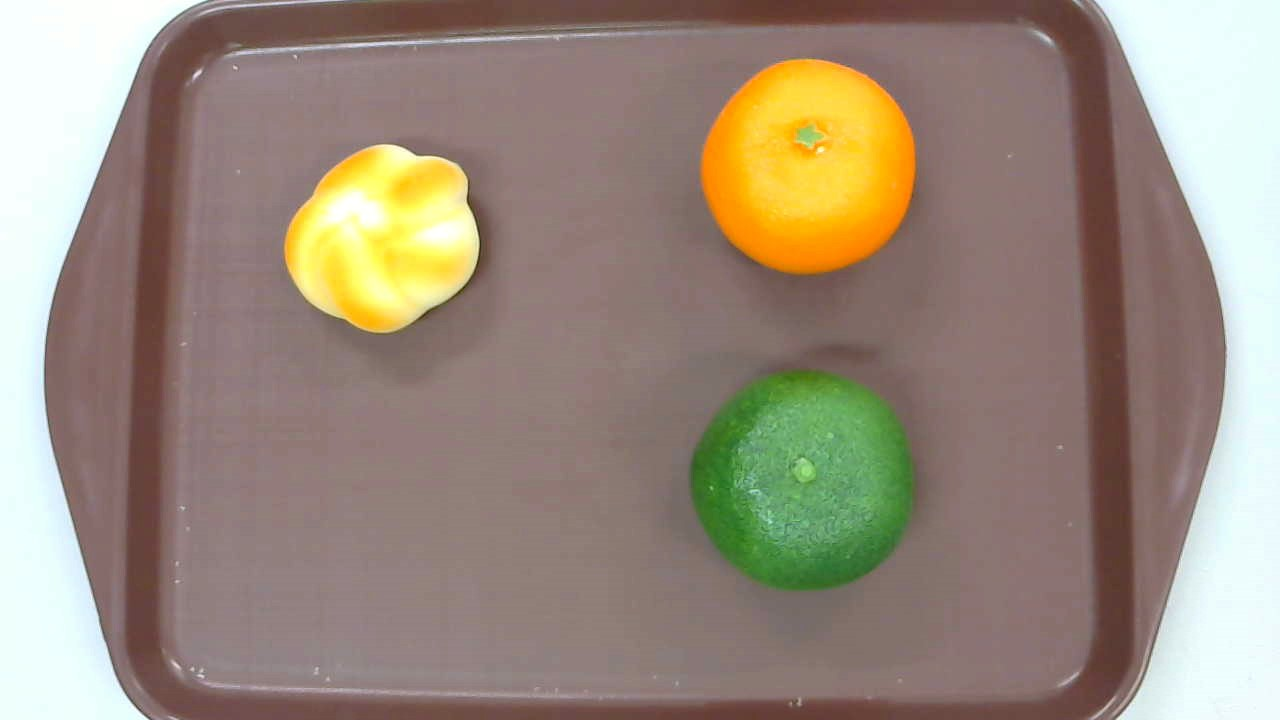green orange: (690, 371, 913, 591)
orange: (700, 58, 914, 276)
twist bread: (283, 143, 482, 334)
